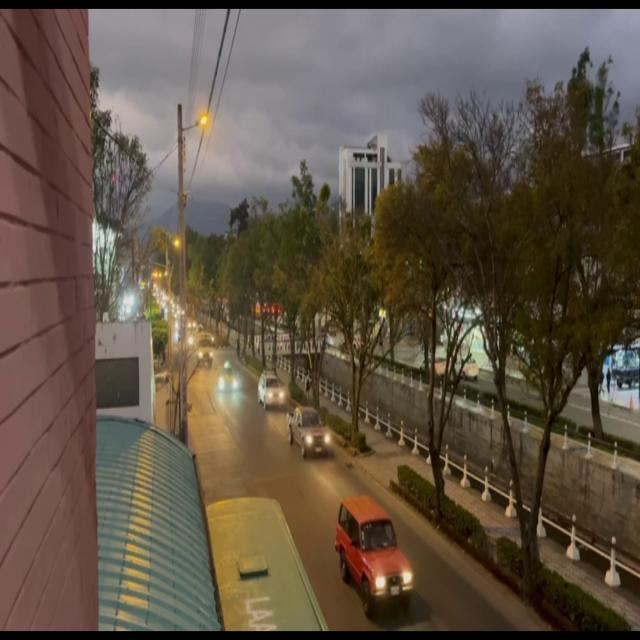CMT: (289, 407, 330, 455)
SUV: (340, 503, 410, 612), (260, 374, 284, 408)
